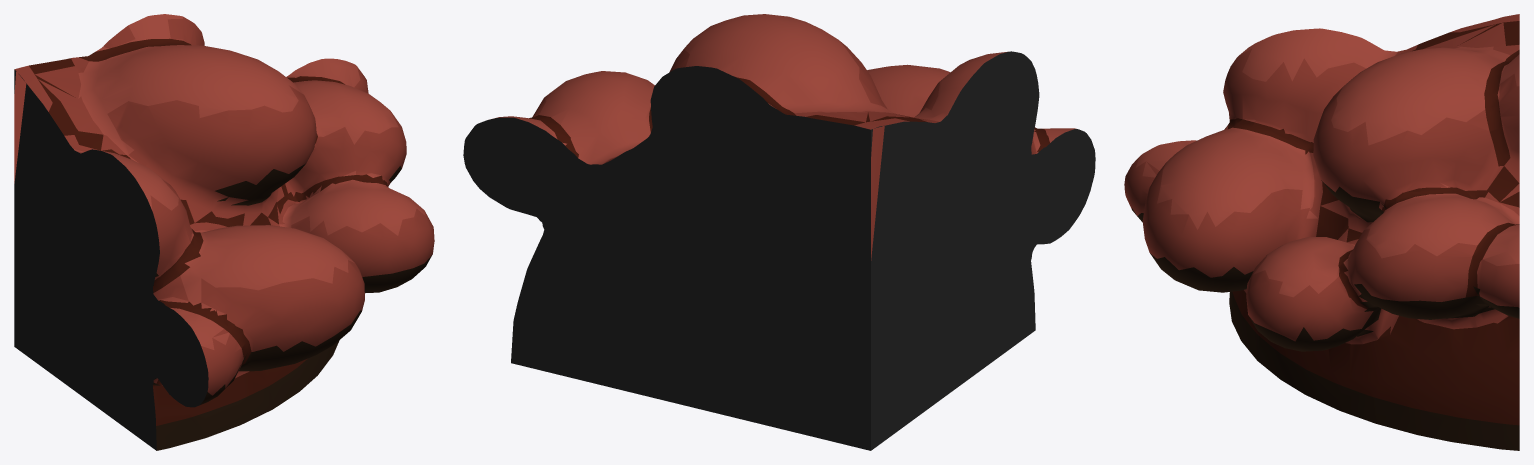
Rendered from miners_ore_br.glb.
The picture shows the model from 3 angles, left to right: view 1: azimuth 30°, elevation 25°; view 2: azimuth 150°, elevation 25°; view 3: azimuth 270°, elevation 25°; orthographic projection. The views are drawn at different scales.
Visible parts, largest first — view 1: ore.001; view 2: ore.001; view 3: ore.001.
Part boxes in pixels (bbox=[...]): ore.001: bbox=[14, 14, 434, 450]; ore.001: bbox=[463, 14, 1095, 450]; ore.001: bbox=[1124, 14, 1519, 450].
Size of the model in its own units: 15.07 by 12.19 by 14.39.
